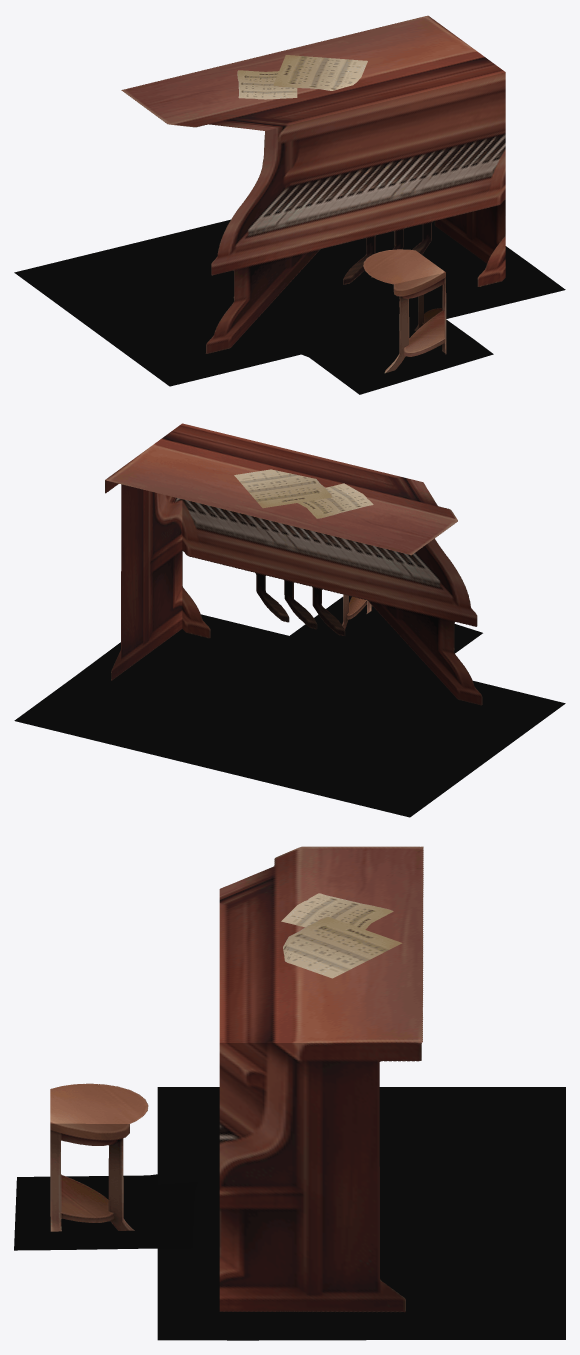
File: k1_piano.FBX
3 renders of one model, top to bottom at view 1: azimuth 30°, elevation 25°; view 2: azimuth 150°, elevation 25°; view 3: azimuth 270°, elevation 25°, orthographic. The views are drawn at different scales.
Visible parts, largest first — view 1: oldmask02, oldmask_yy, cc_desk01_yy, cc_desk01, oldmask05, oldmask04; view 2: oldmask_yy, oldmask02, cc_desk01_yy, oldmask05, oldmask04, cc_desk01; view 3: oldmask02, oldmask_yy, cc_desk01_yy, cc_desk01, oldmask05, oldmask04.
Boxes of the visible parts, bbox=[...] form: oldmask02: bbox=[121, 15, 505, 353]; oldmask_yy: bbox=[14, 219, 565, 386]; cc_desk01_yy: bbox=[301, 303, 493, 394]; cc_desk01: bbox=[363, 249, 446, 373]; oldmask05: bbox=[273, 55, 367, 90]; oldmask04: bbox=[237, 70, 297, 99]; oldmask_yy: bbox=[14, 614, 565, 817]; oldmask02: bbox=[105, 423, 482, 705]; cc_desk01_yy: bbox=[285, 596, 482, 677]; oldmask05: bbox=[234, 469, 332, 508]; oldmask04: bbox=[298, 483, 373, 518]; cc_desk01: bbox=[342, 594, 372, 629]; oldmask02: bbox=[219, 846, 423, 1312]; oldmask_yy: bbox=[157, 1087, 565, 1340]; cc_desk01_yy: bbox=[14, 1174, 197, 1250]; cc_desk01: bbox=[50, 1083, 148, 1231]; oldmask05: bbox=[283, 916, 402, 978]; oldmask04: bbox=[281, 893, 393, 929].
Size of the model in its own units: 2.62 by 1.37 by 2.42.
